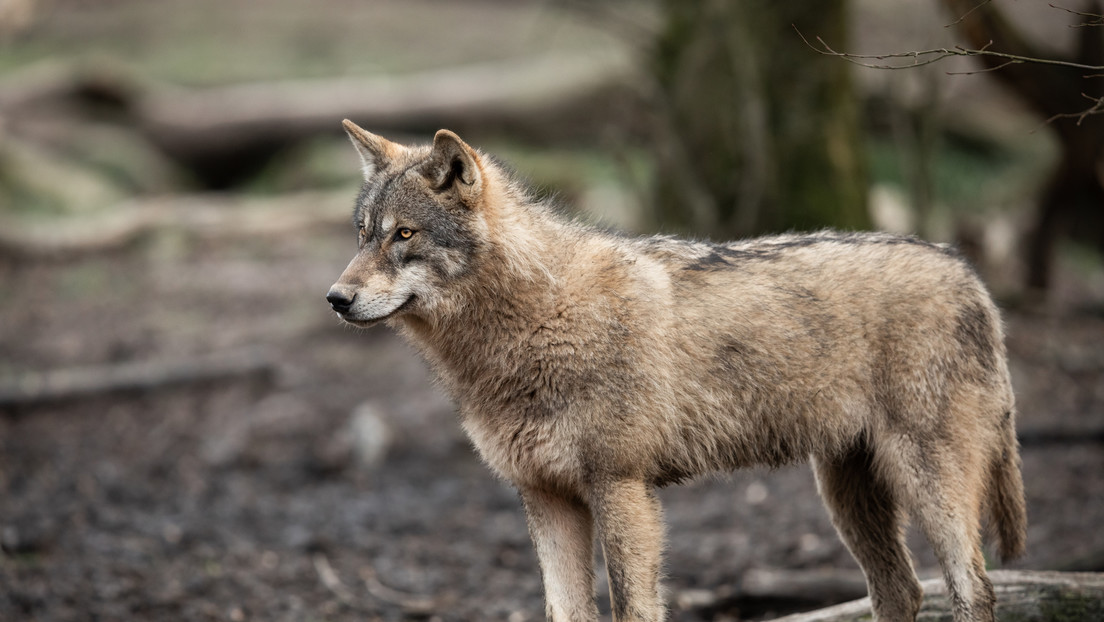Lobo: (326, 107, 1031, 622)
